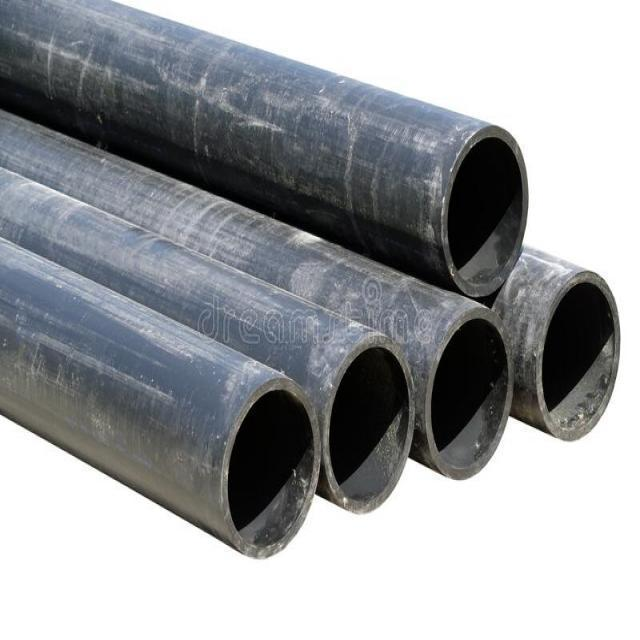pipe: (227, 391, 314, 548), (330, 348, 412, 513), (448, 136, 528, 296), (543, 282, 618, 440), (432, 319, 509, 469)
